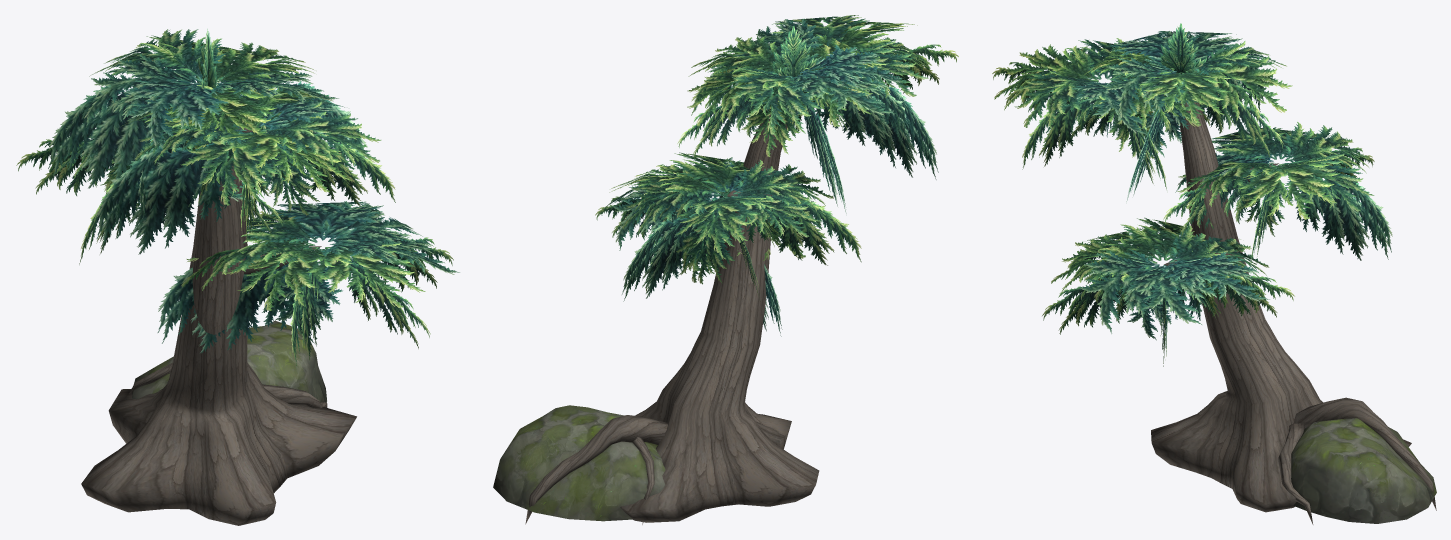
File: tree_root_crag_pine.glb
The picture shows the model from 3 angles, left to right: view 1: azimuth 30°, elevation 25°; view 2: azimuth 150°, elevation 25°; view 3: azimuth 270°, elevation 25°; orthographic projection. The views are drawn at different scales.
Parts seen in each view (by area): view 1: tree_root_crag_pine; view 2: tree_root_crag_pine; view 3: tree_root_crag_pine.
Boxes of the visible parts, <box> form: tree_root_crag_pine: <box>16,29,459,525</box>; tree_root_crag_pine: <box>493,15,958,524</box>; tree_root_crag_pine: <box>992,23,1436,524</box>.
Size of the model in its own units: 11.71 by 14.89 by 14.3.
Materials: 3 (3 with a texture image).
